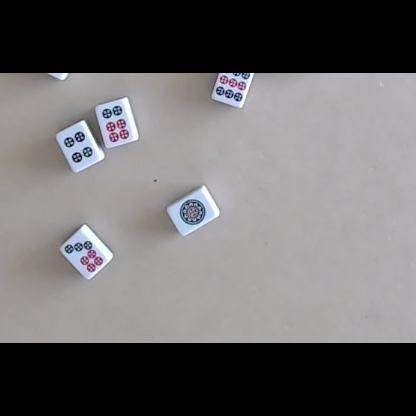1p: (179, 198, 206, 226)
4p: (63, 131, 94, 164)
6p: (102, 104, 130, 143)
7p: (64, 241, 104, 272)
9p: (215, 73, 250, 102)
